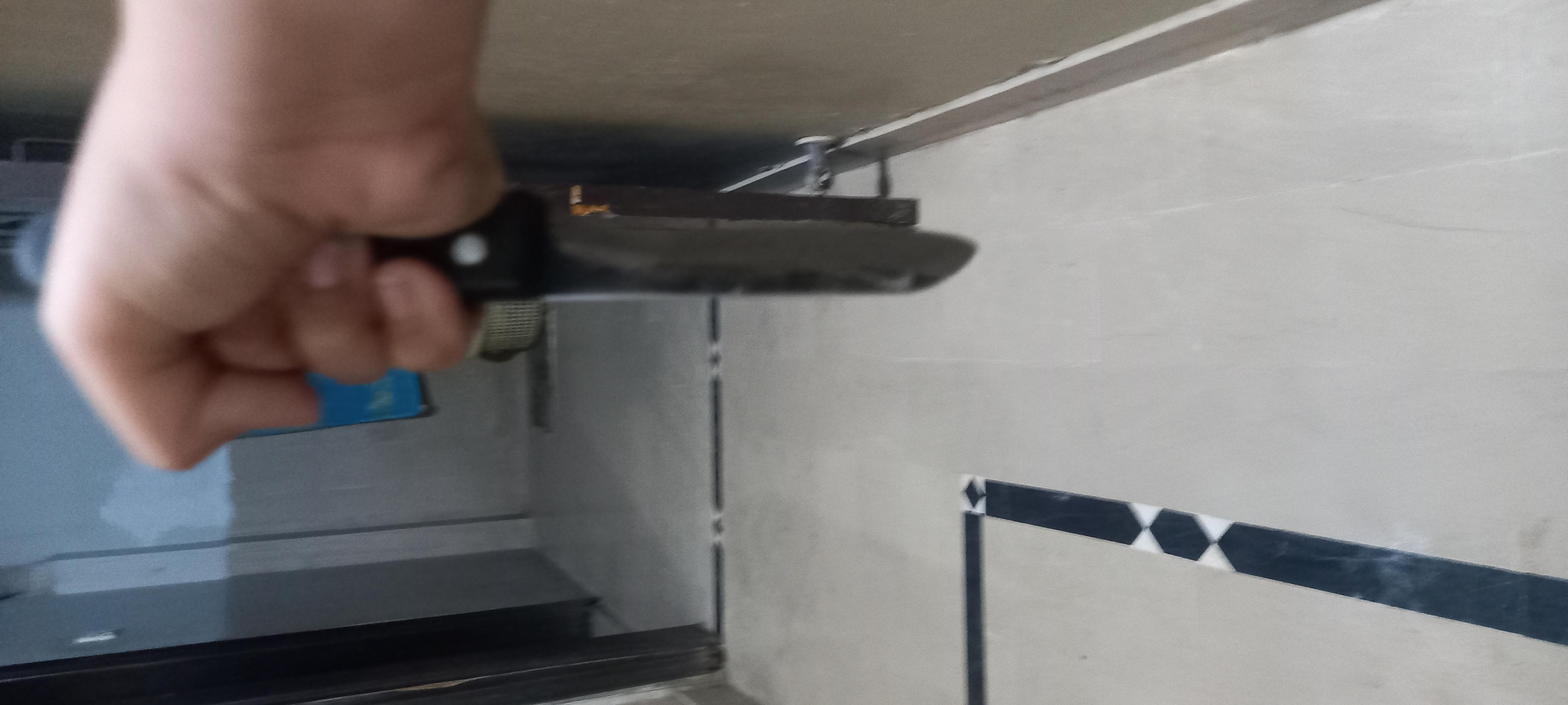knives: (803, 123, 1212, 470)
